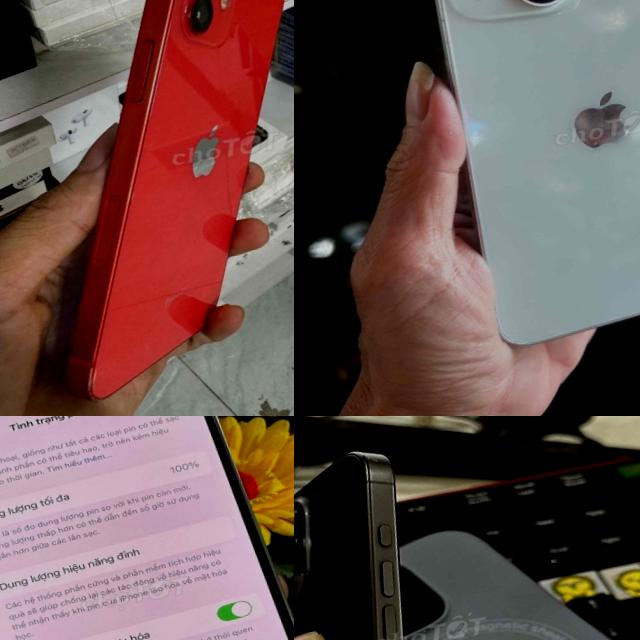gen_12_13: (0, 0, 294, 402)
gen_14: (0, 416, 294, 640)
gen_15: (389, 0, 640, 383)
gen_16: (294, 453, 404, 640)
scratch: (561, 86, 639, 154), (421, 0, 457, 74)
